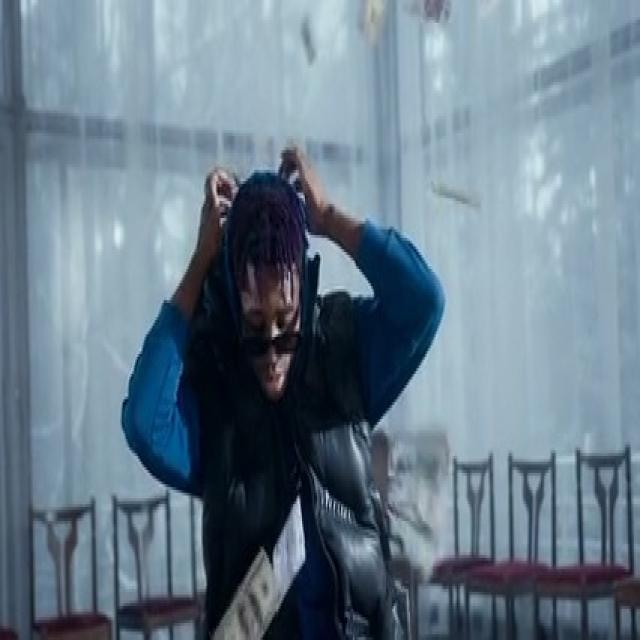Jacket_Wearer: (174, 279, 402, 640)
Person: (140, 104, 442, 640)
